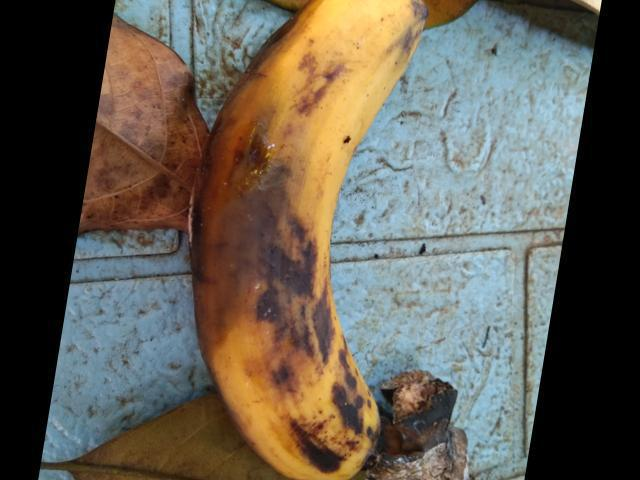rotten: (182, 0, 423, 479)
